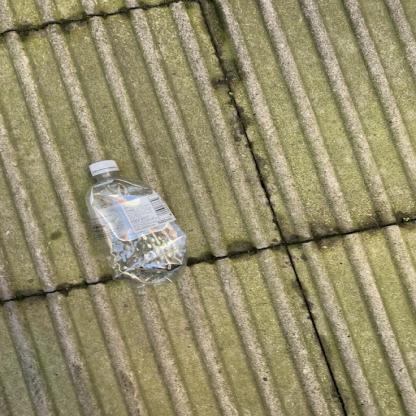trash: (77, 160, 200, 288)
